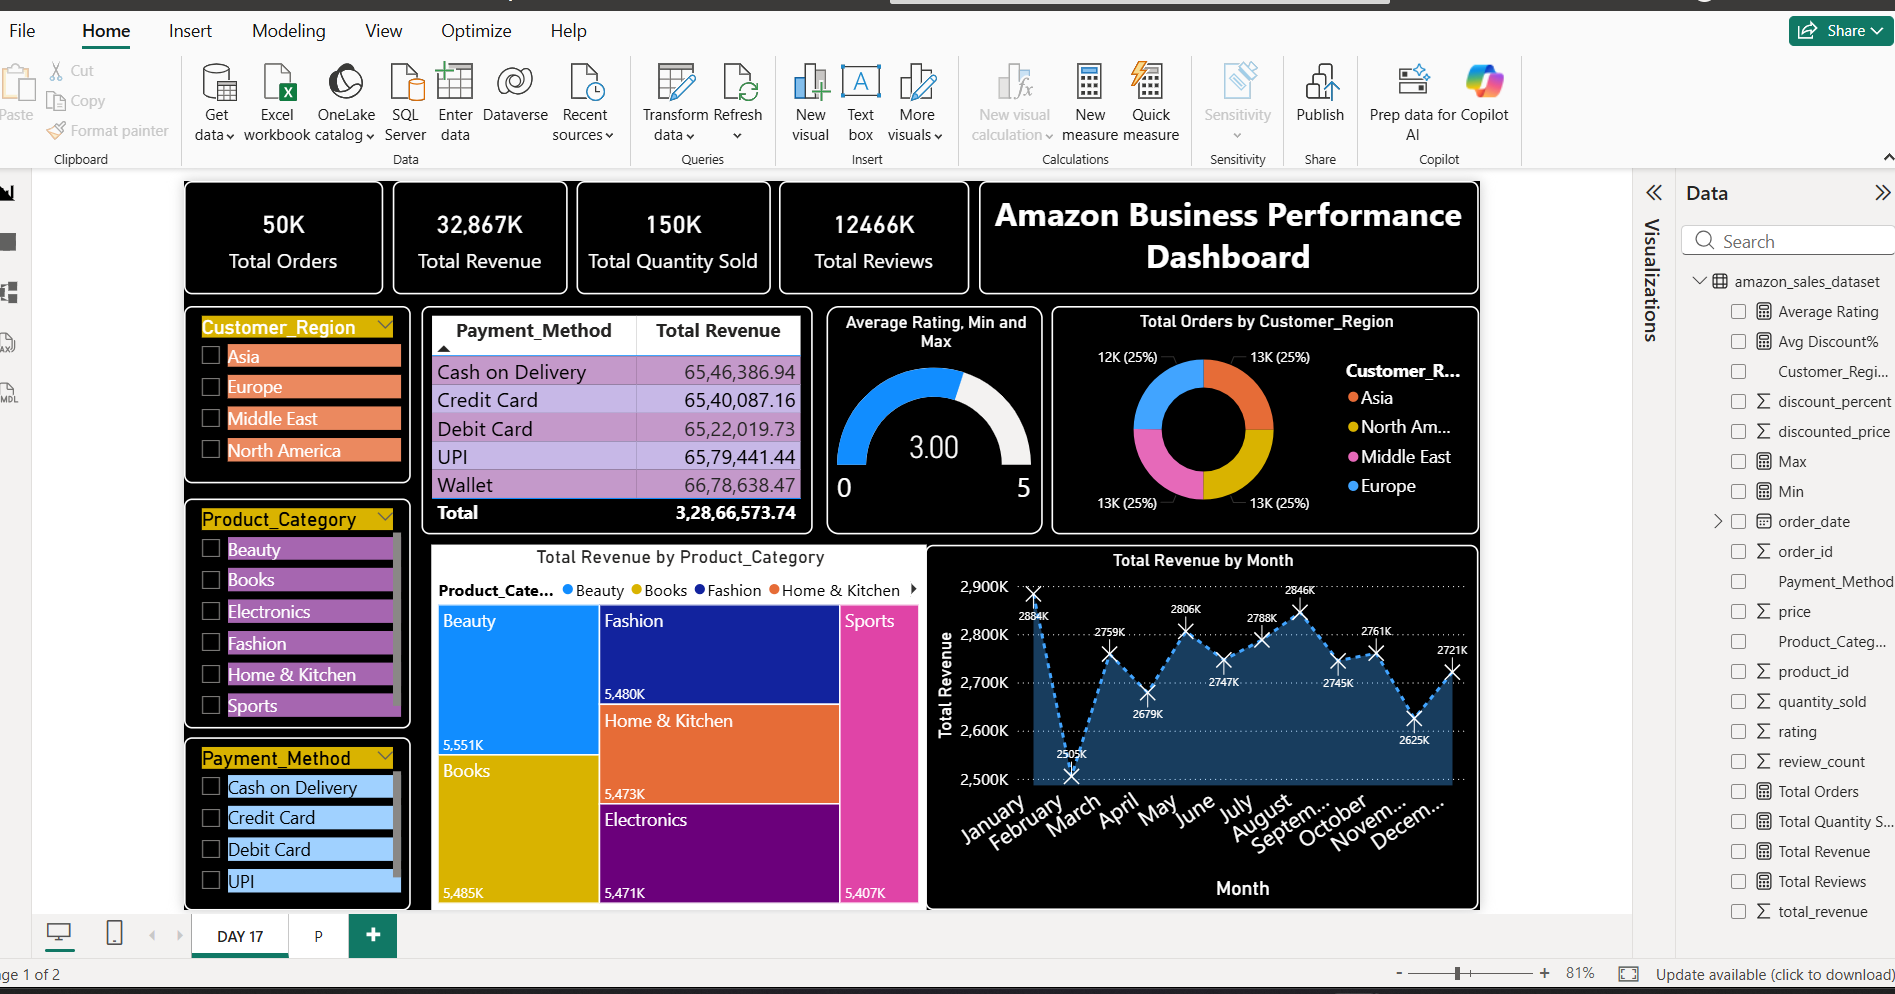

The dashboard page shown, as its layout file describes it:
{"tool":"powerbi","page":{"name":"DAY 17","canvas":[1280,720],"ordinal":0},"visuals":[{"type":"card","fields":{"Values":["amazon_sales_dataset.Total Orders"]},"box":[0,0,196.6,112.2],"z":0},{"type":"card","fields":{"Values":["amazon_sales_dataset.Total Revenue"]},"box":[206.3,0,172.5,112.2],"z":1000},{"type":"card","fields":{"Values":["amazon_sales_dataset.Total Quantity Sold"]},"box":[387.3,0,191.8,112.2],"z":2000},{"type":"card","fields":{"Values":["amazon_sales_dataset.Total Reviews"]},"box":[587.5,0,188.2,112.2],"z":3000},{"type":"areaChart","fields":{"Category":["amazon_sales_dataset.order_date.Variation.Date Hierarchy.Month"],"Y":["amazon_sales_dataset.Total Revenue"]},"box":[732.6,359.6,546.1,360.7],"z":4000},{"type":"treemap","fields":{"Group":["amazon_sales_dataset.product_category"],"Values":["amazon_sales_dataset.Total Revenue"]},"box":[243.8,358.9,489,361.6],"z":5000},{"type":"donutChart","fields":{"Category":["amazon_sales_dataset.customer_region"],"Y":["amazon_sales_dataset.Total Orders"]},"box":[856.6,123.1,422.3,225.6],"z":6000},{"type":"tableEx","fields":{"Values":["amazon_sales_dataset.payment_method","amazon_sales_dataset.Total Revenue"]},"box":[234,123.1,386.1,225.6],"z":7000},{"type":"gauge","fields":{"Y":["amazon_sales_dataset.Average Rating"],"MinValue":["amazon_sales_dataset.Min"],"MaxValue":["amazon_sales_dataset.Max"]},"box":[634.6,123.1,213.5,225.6],"z":8000},{"type":"slicer","fields":{"Values":["amazon_sales_dataset.product_category"]},"box":[0,313.7,224.4,226.8],"z":9000},{"type":"slicer","fields":{"Values":["amazon_sales_dataset.customer_region"]},"box":[0,123.1,224.4,174.9],"z":10000},{"type":"textbox","box":[785.4,0,493.4,112.2],"z":11000},{"type":"slicer","fields":{"Values":["amazon_sales_dataset.Payment_Method"]},"box":[0,548.9,224.4,171.3],"z":12000}]}

Visuals, with their boxes on the page's 1280x720 design canvas (x1, y1, x2, y2). These are canvas units, not pixel positions in the 1895x994 screenshot, which may show the page scaled, cropped or inside an application window:
card - amazon_sales_dataset.Total Orders: rect(0, 0, 197, 112)
card - amazon_sales_dataset.Total Revenue: rect(206, 0, 379, 112)
card - amazon_sales_dataset.Total Quantity Sold: rect(387, 0, 579, 112)
card - amazon_sales_dataset.Total Reviews: rect(588, 0, 776, 112)
areaChart - amazon_sales_dataset.order_date.Variation.Date Hierarchy.Month x amazon_sales_dataset.Total Revenue: rect(733, 360, 1279, 720)
treemap - amazon_sales_dataset.product_category x amazon_sales_dataset.Total Revenue: rect(244, 359, 733, 720)
donutChart - amazon_sales_dataset.customer_region x amazon_sales_dataset.Total Orders: rect(857, 123, 1279, 349)
tableEx - amazon_sales_dataset.payment_method x amazon_sales_dataset.Total Revenue: rect(234, 123, 620, 349)
gauge - amazon_sales_dataset.Average Rating x amazon_sales_dataset.Min: rect(635, 123, 848, 349)
slicer - amazon_sales_dataset.product_category: rect(0, 314, 224, 540)
slicer - amazon_sales_dataset.customer_region: rect(0, 123, 224, 298)
textbox: rect(785, 0, 1279, 112)
slicer - amazon_sales_dataset.Payment_Method: rect(0, 549, 224, 720)
